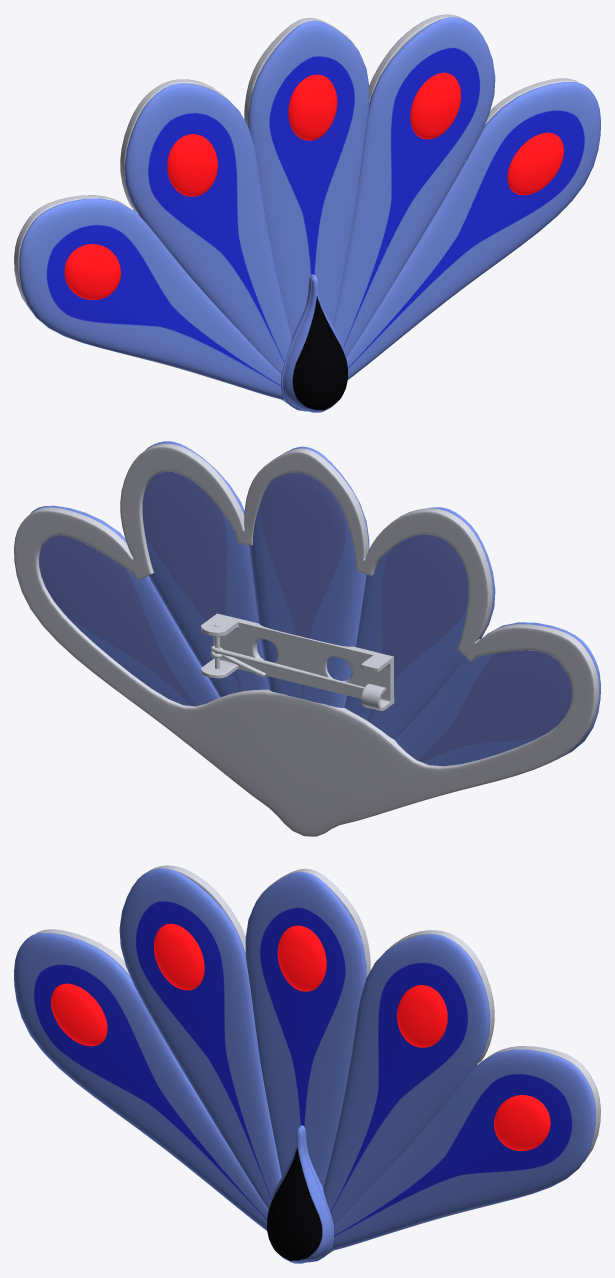
3 views of the same model, one above another, from view 1: azimuth 30°, elevation 25°; view 2: azimuth 150°, elevation 25°; view 3: azimuth 330°, elevation 25° (orthographic).
Parts seen in each view (by area): view 1: Object_3, Object_4, Object_5; view 2: Object_3, Object_5, Object_2; view 3: Object_3, Object_4, Object_5.
Part boxes in pixels (bbox=[...]): Object_3: bbox=[19, 17, 600, 412]; Object_4: bbox=[64, 72, 563, 299]; Object_5: bbox=[14, 14, 579, 403]; Object_3: bbox=[30, 441, 600, 766]; Object_5: bbox=[14, 443, 598, 836]; Object_2: bbox=[201, 613, 394, 710]; Object_3: bbox=[14, 868, 595, 1263]; Object_4: bbox=[51, 923, 550, 1150]; Object_5: bbox=[35, 865, 600, 1254].
Bounding box in the file's own units: 9.12 × 5.79 × 1.17.
4 materials, 4 textured.
